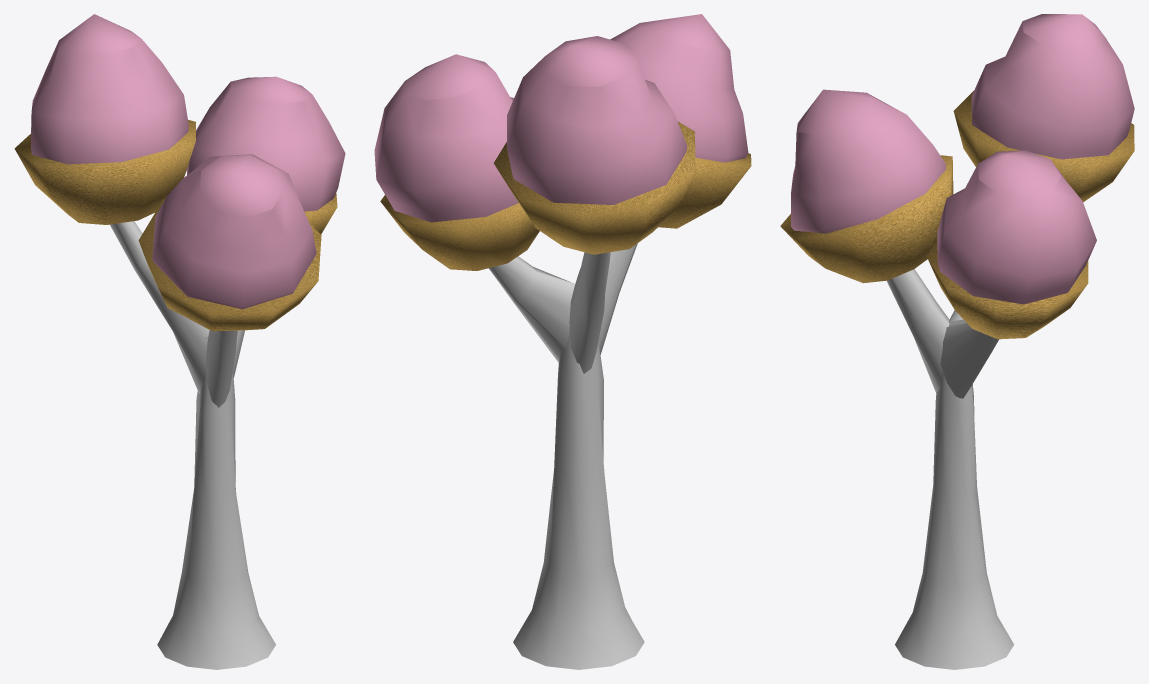
File: tree4.obj
The picture shows the model from 3 angles, left to right: view 1: azimuth 30°, elevation 25°; view 2: azimuth 150°, elevation 25°; view 3: azimuth 270°, elevation 25°; orthographic projection. The views are drawn at different scales.
Visible parts, largest first — view 1: Cone.004, Cylinder.001; view 2: Cone.004, Cylinder.001; view 3: Cone.004, Cylinder.001.
Part boxes in pixels (box(x1,y1,x2,y2)): Cone.004: box(14, 14, 345, 331); Cylinder.001: box(110, 221, 275, 669); Cone.004: box(374, 14, 751, 270); Cylinder.001: box(489, 243, 644, 669); Cone.004: box(780, 14, 1134, 339); Cylinder.001: box(887, 269, 1014, 669).
Bounding box in the file's own units: 1.66 × 3.28 × 1.75.
